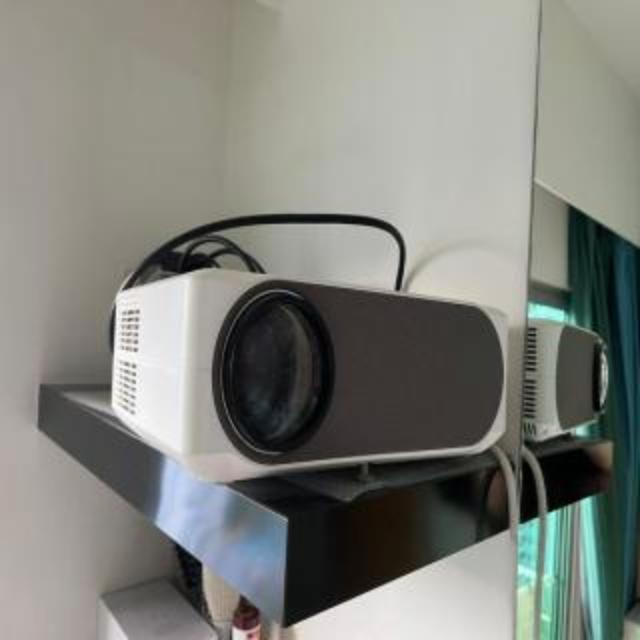Projector: (112, 264, 508, 482)
